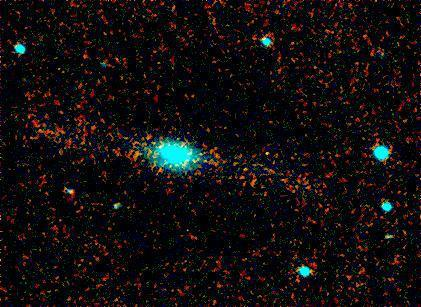star: (248, 135, 278, 165)
